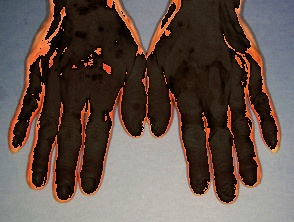vitiligo: (135, 0, 275, 138), (21, 0, 161, 131)
